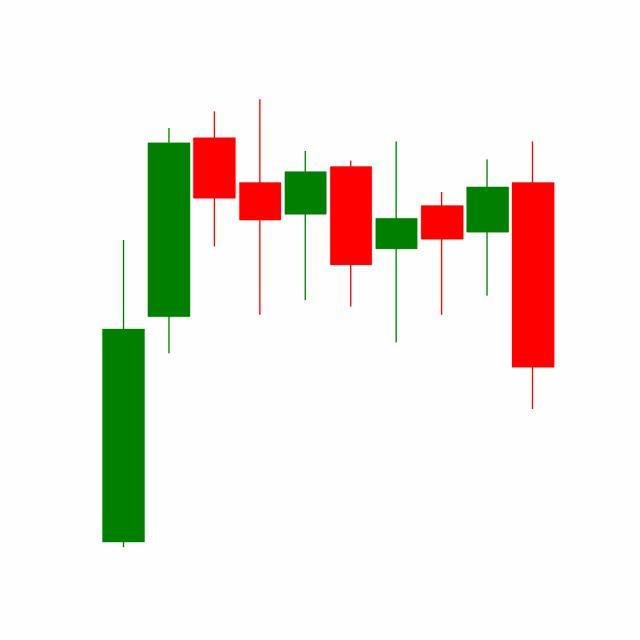Hikkake Pattern: (283, 140, 512, 346)
